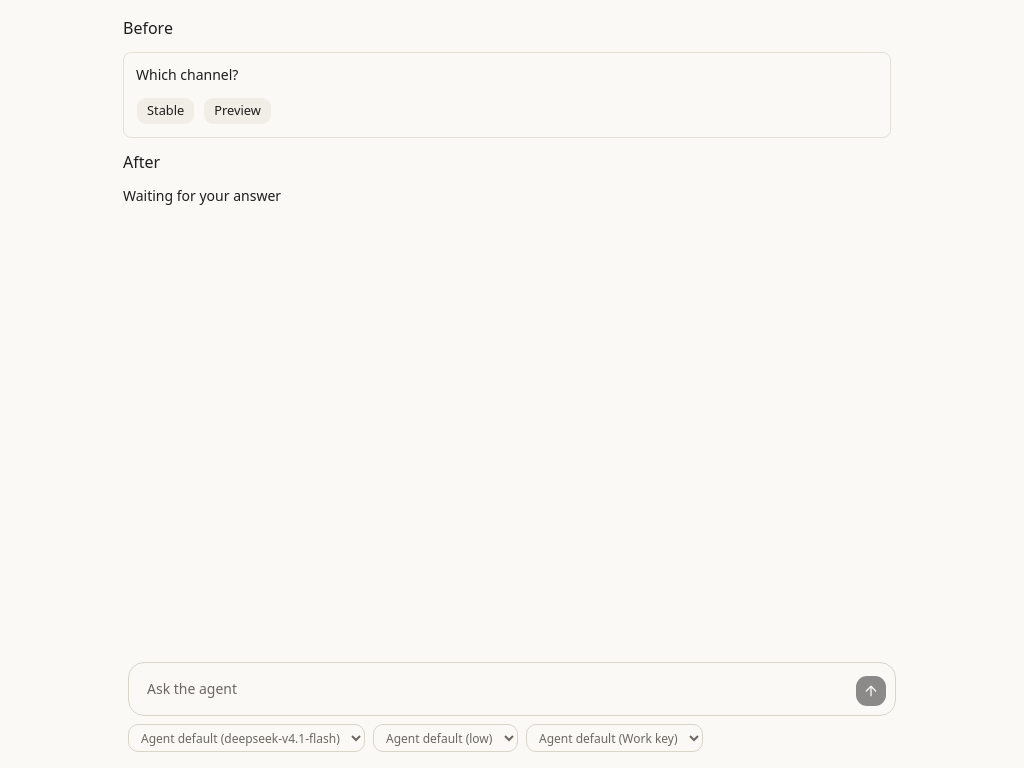
Test: ChatPane › renders the question at its tool position, answers an option, and waits instead of thinking
Check: the text "Which channel?" is shown, box [136,65,238,84]
Check: the text "Waiting for your answer" is shown, box [123,186,281,205]
Click the button "Preview" at (238, 111), box [203,97,272,125]
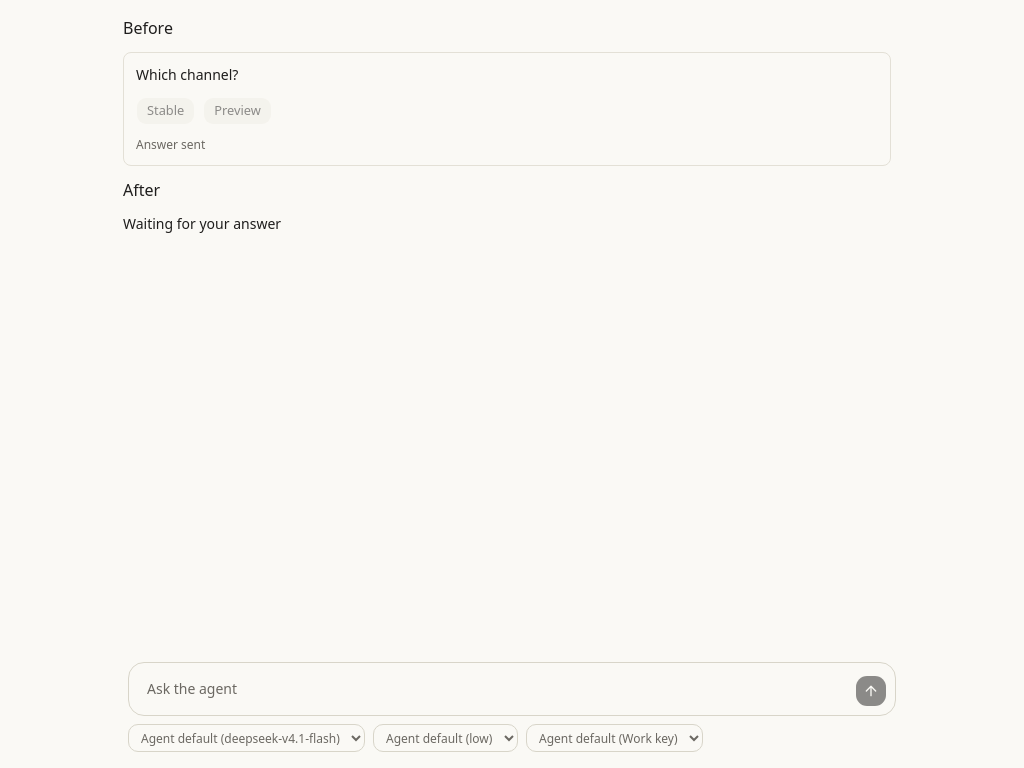
Check: the text "Answer sent" is shown, box [136,136,205,153]
